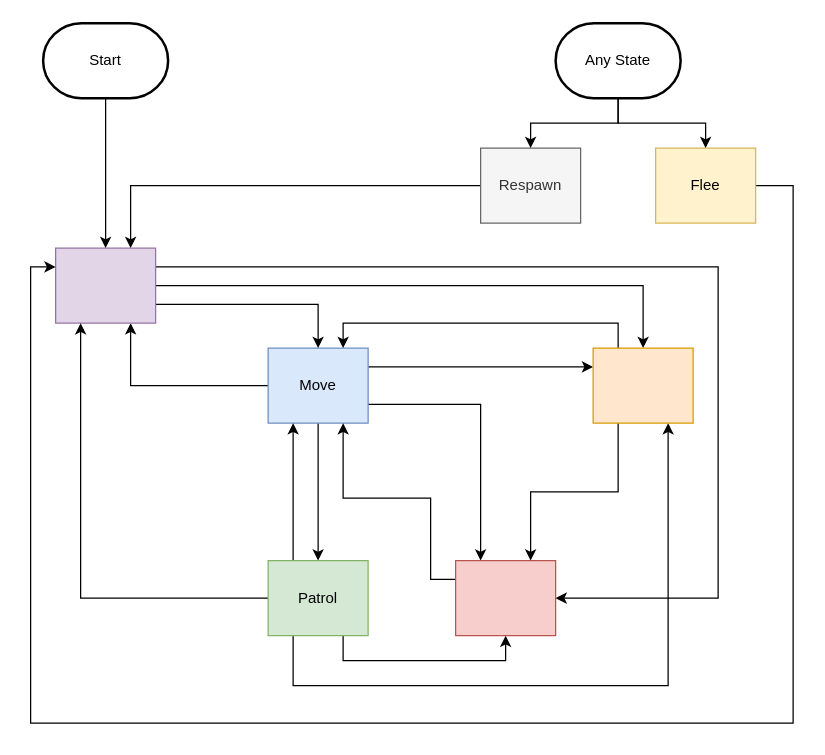
Some shapes in this 825 by 755 pixel diagram are drawn without their labels. The shapes that lost their labels are listed below. From the top down, each one's centre as x and y in pixels, then its label:
(x=105, y=285): Search For Hardpoint
(x=642, y=385): Search For Enemy
(x=505, y=597): Attack
